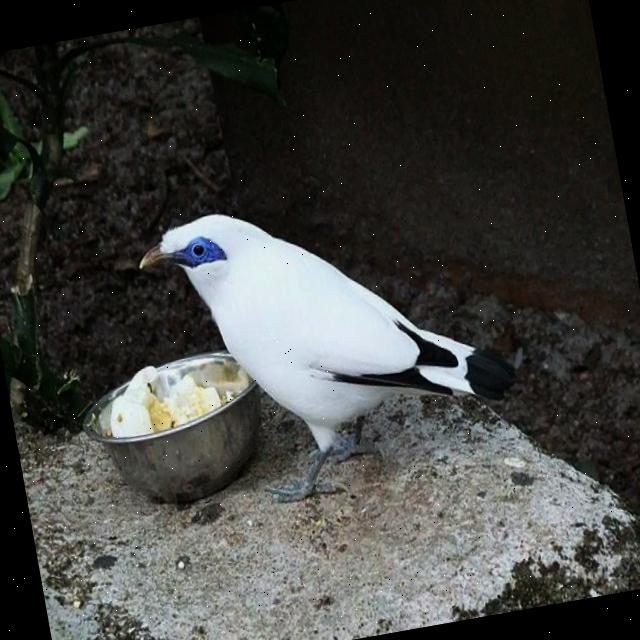Jalak Bali: (112, 128, 550, 562)
